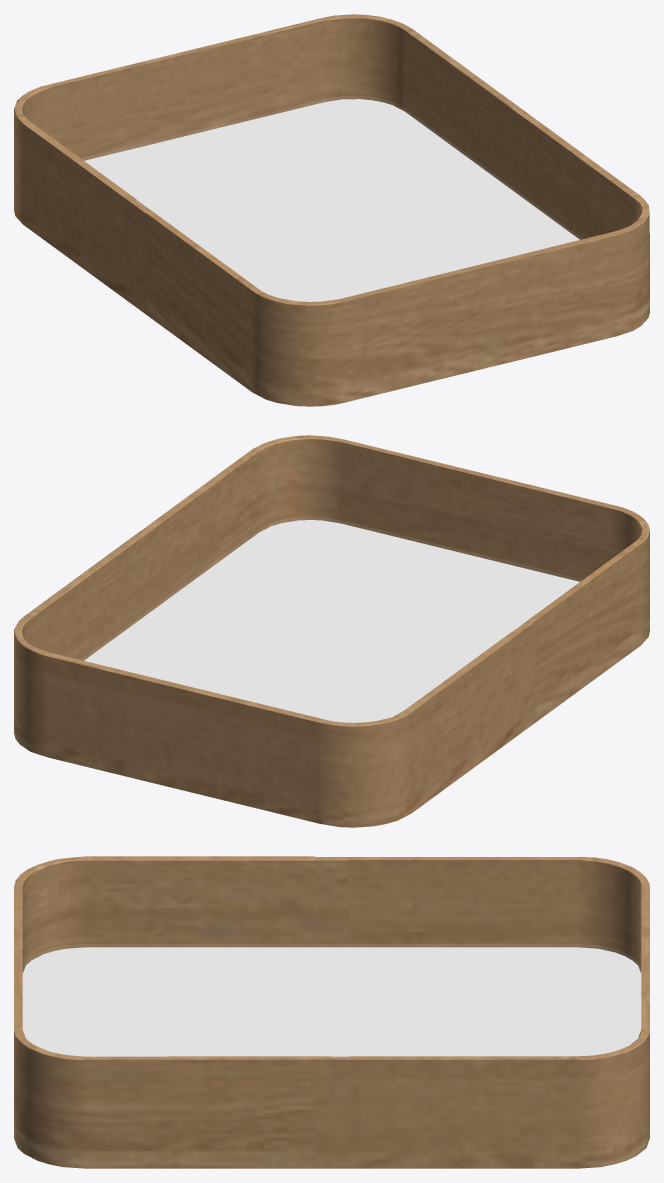
The model's file is 13 - DVÄRGSYREN Mirror - oak veneer 28x37 cm.glb.
3 renders of one model, top to bottom at view 1: azimuth 30°, elevation 25°; view 2: azimuth 150°, elevation 25°; view 3: azimuth 270°, elevation 25°, orthographic. The views are drawn at different scales.
Parts seen in each view (by area): view 1: 70591594; view 2: 70591594; view 3: 70591594.
Boxes of the visible parts, bbox=[...] form: 70591594: bbox=[14, 14, 649, 406]; 70591594: bbox=[14, 435, 649, 827]; 70591594: bbox=[14, 856, 649, 1168].
Size of the model in its own units: 0.2801 by 0.0701 by 0.3701.
2 materials, 2 textured.
